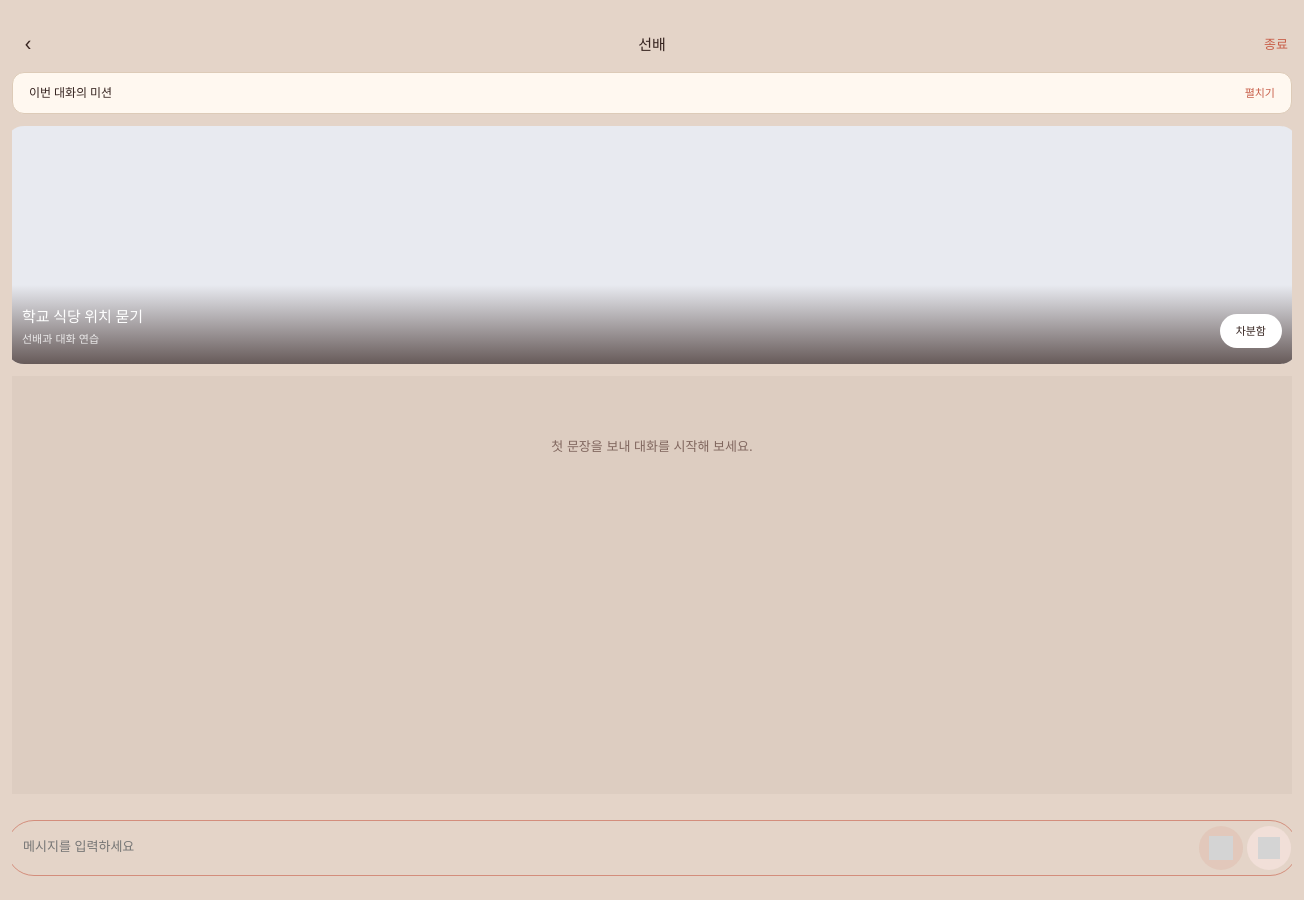
it: 시나리오 상황 브리핑은 기본으로 접고 사용자가 펼칠 수 있다
expect the text "점심시간인데 학생 식당이 어디인지 모른다. 선배에게 물어보자." is not shown: met
Click the button "이번 대화의 미션 펼치기" at (70, 92), box [13,73,1291,113]
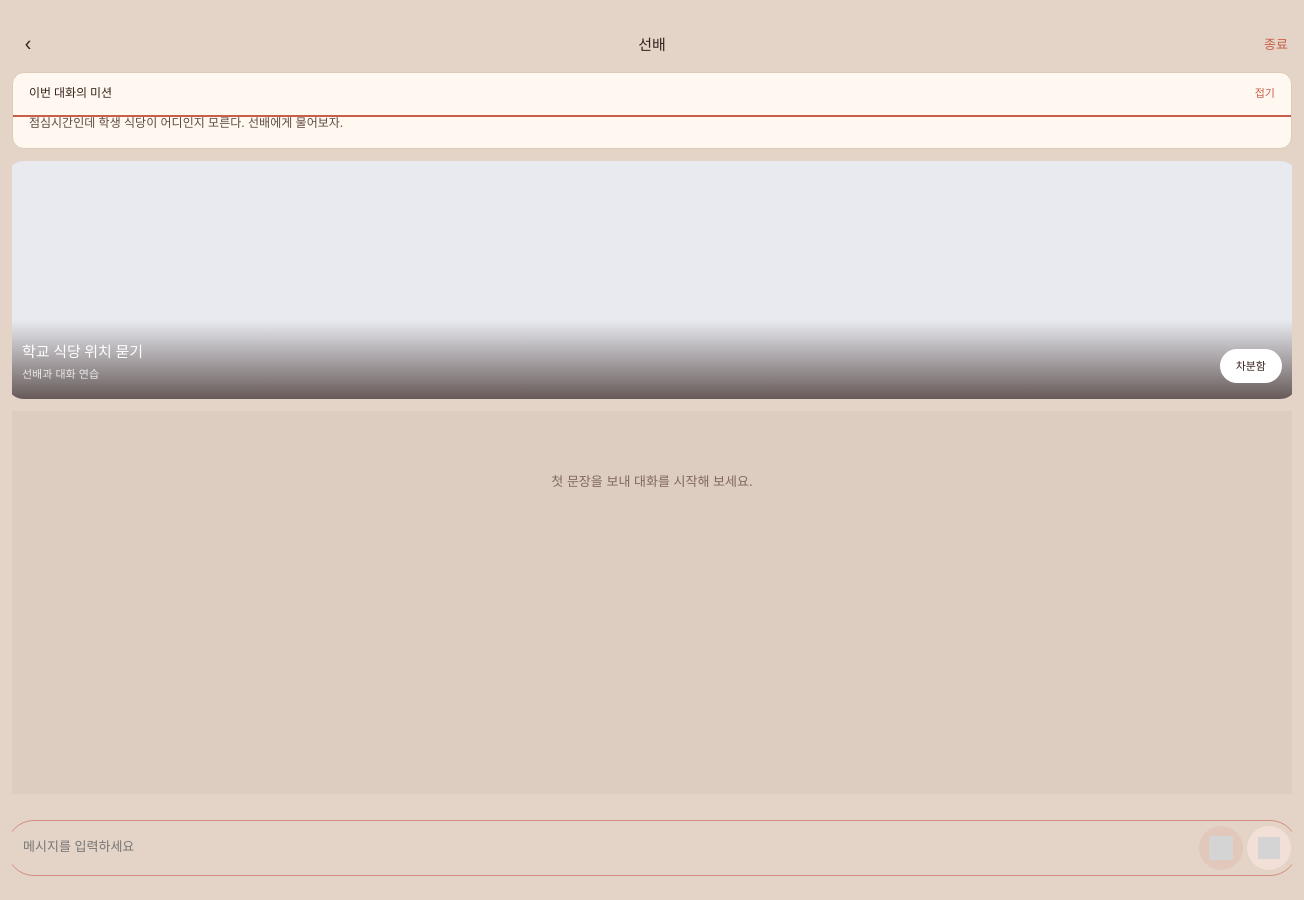
expect the button "이번 대화의 미션 접기" is expanded: met, box [13,73,1291,113]
expect the text "점심시간인데 학생 식당이 어디인지 모른다. 선배에게 물어보자." is shown: met, box [29,115,343,130]
